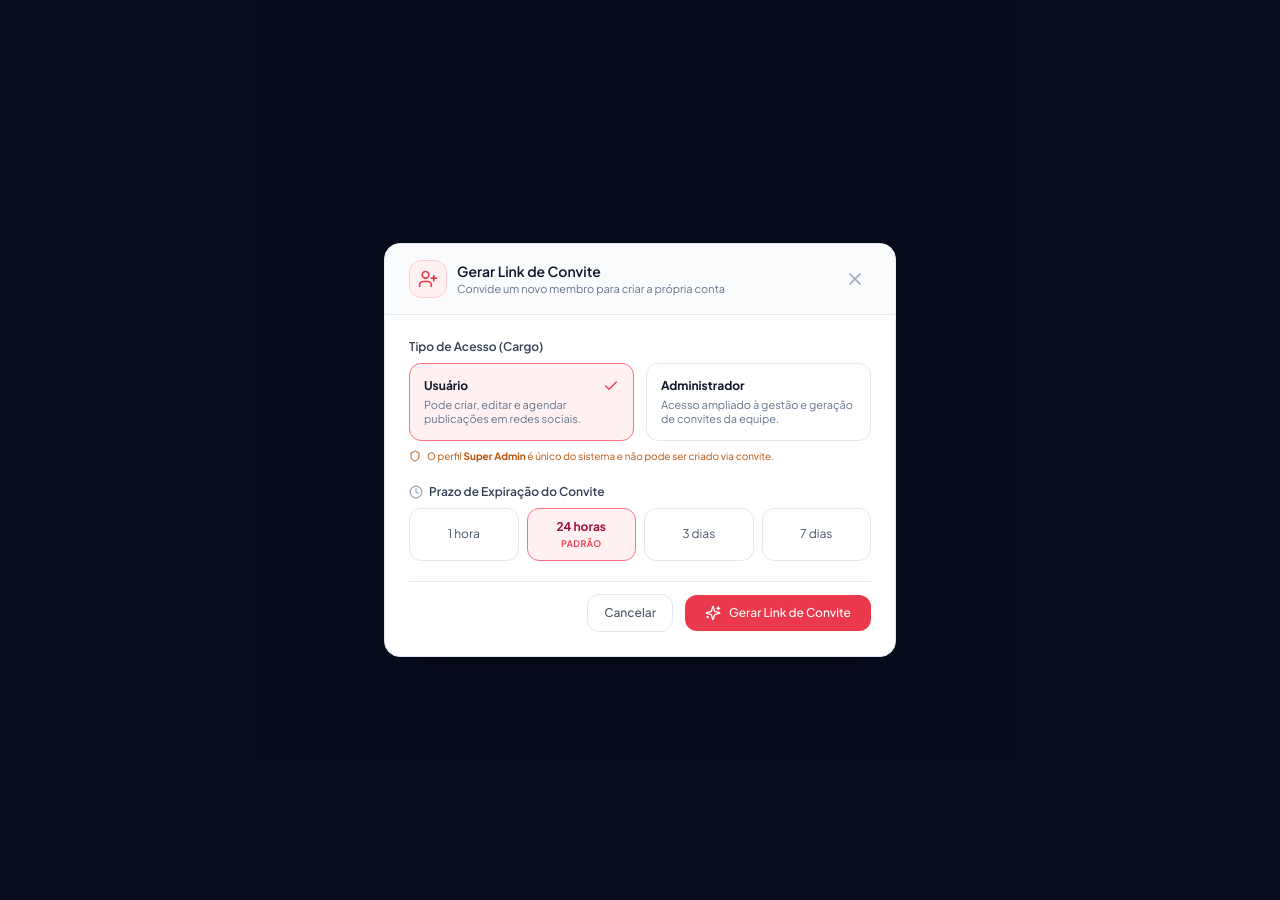
InviteModal Component › allows selecting role and expiration then generates invite successfully
This screenshot has width=1280, height=900.
Seleciona Administrador
Click the button with test id "role-admin-option" at (758, 402), box [646,363,871,440]
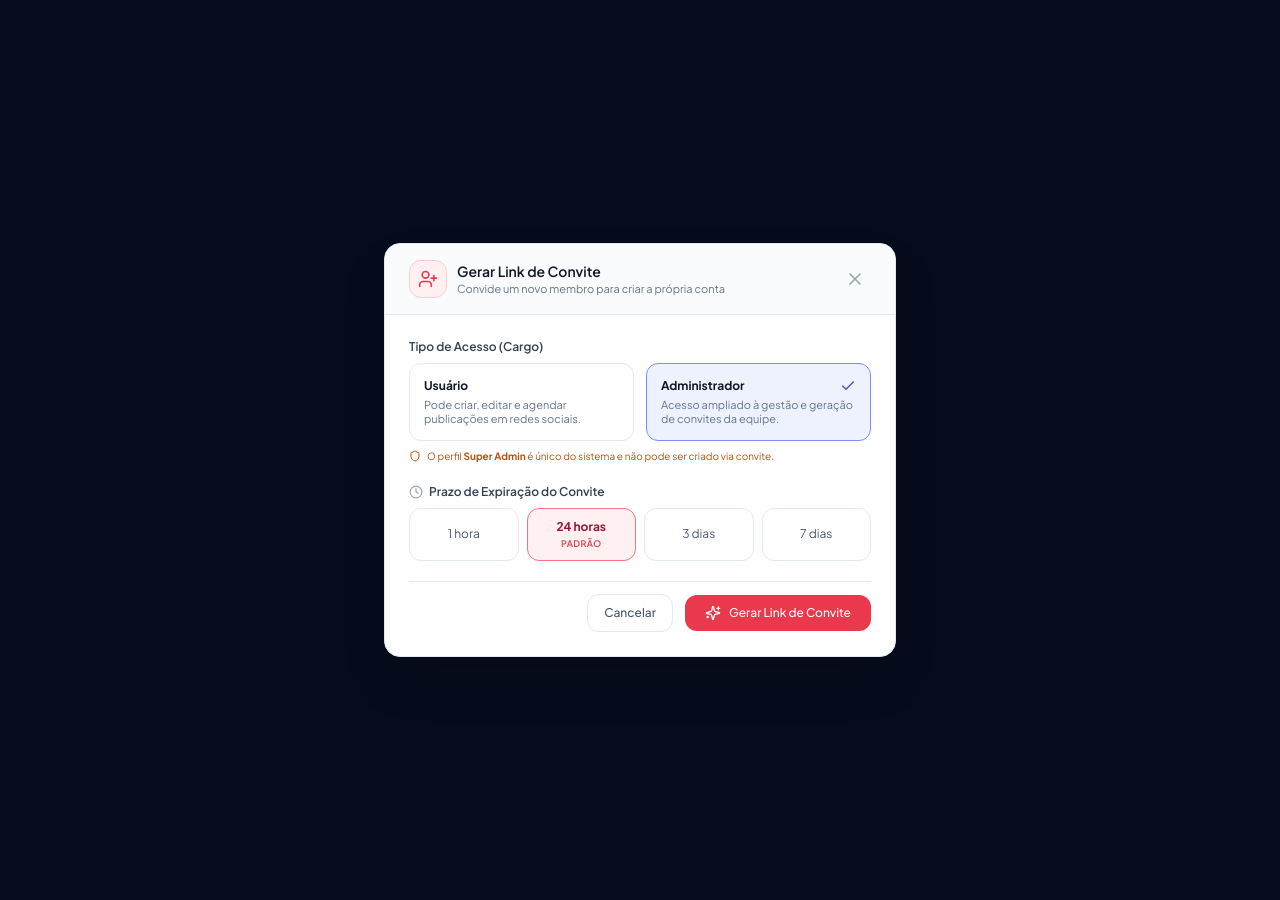
Seleciona 7 dias (168h)
Click the button with test id "expire-168h-option" at (816, 534), box [762,508,871,561]
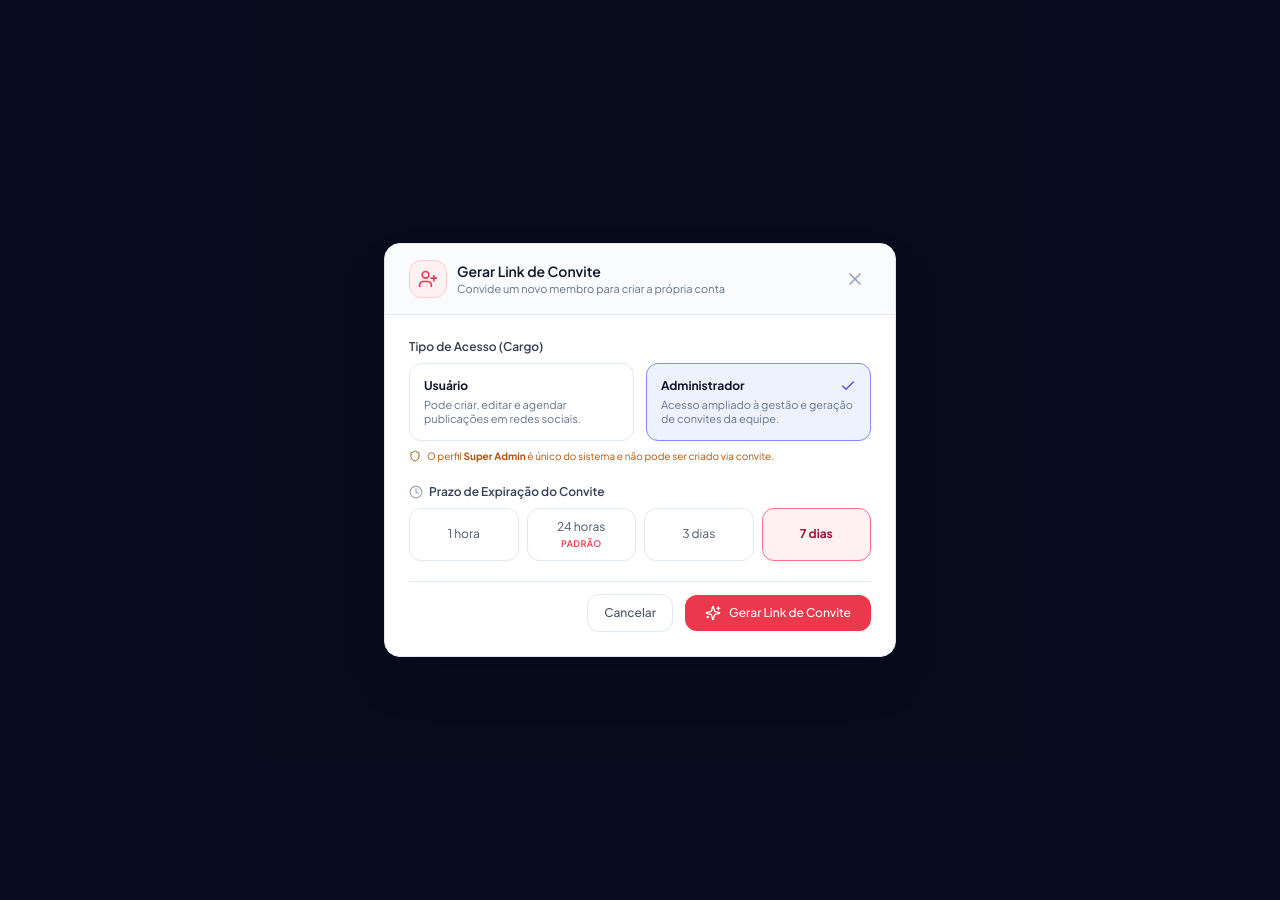
Clica em Gerar
Click the button with test id "btn-generate-invite" at (778, 613), box [685,595,871,631]
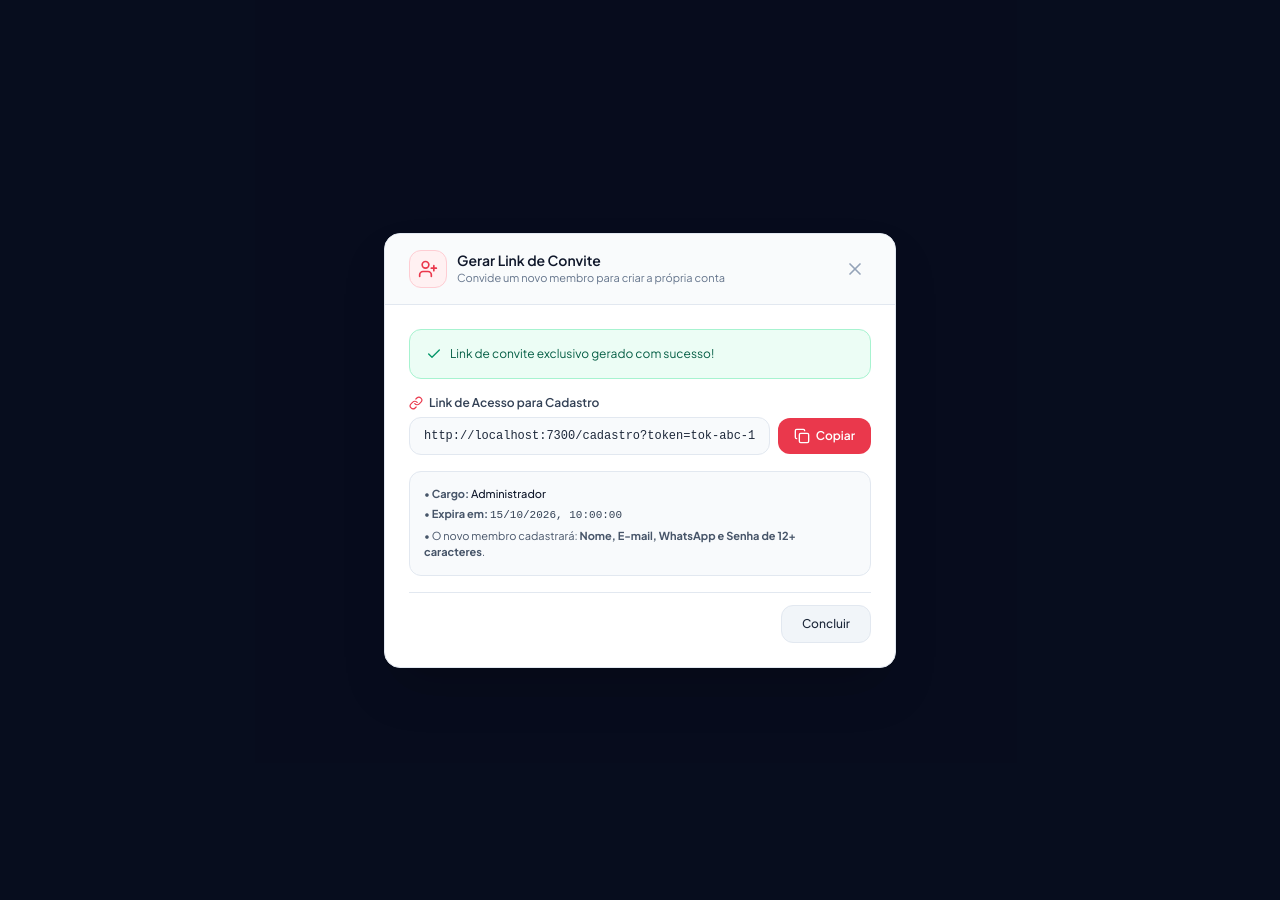
Result: the field with test id "invite-link-input" holds "http://localhost:7300/cadastro?token=tok-abc-123" at [409,416,770,454]
Result: the text "Link de convite exclusivo gerado com sucesso!" is shown at [450,346,714,362]
Copia link
Click the button with test id "btn-copy-invite-link" at (824, 436), box [778,418,871,454]
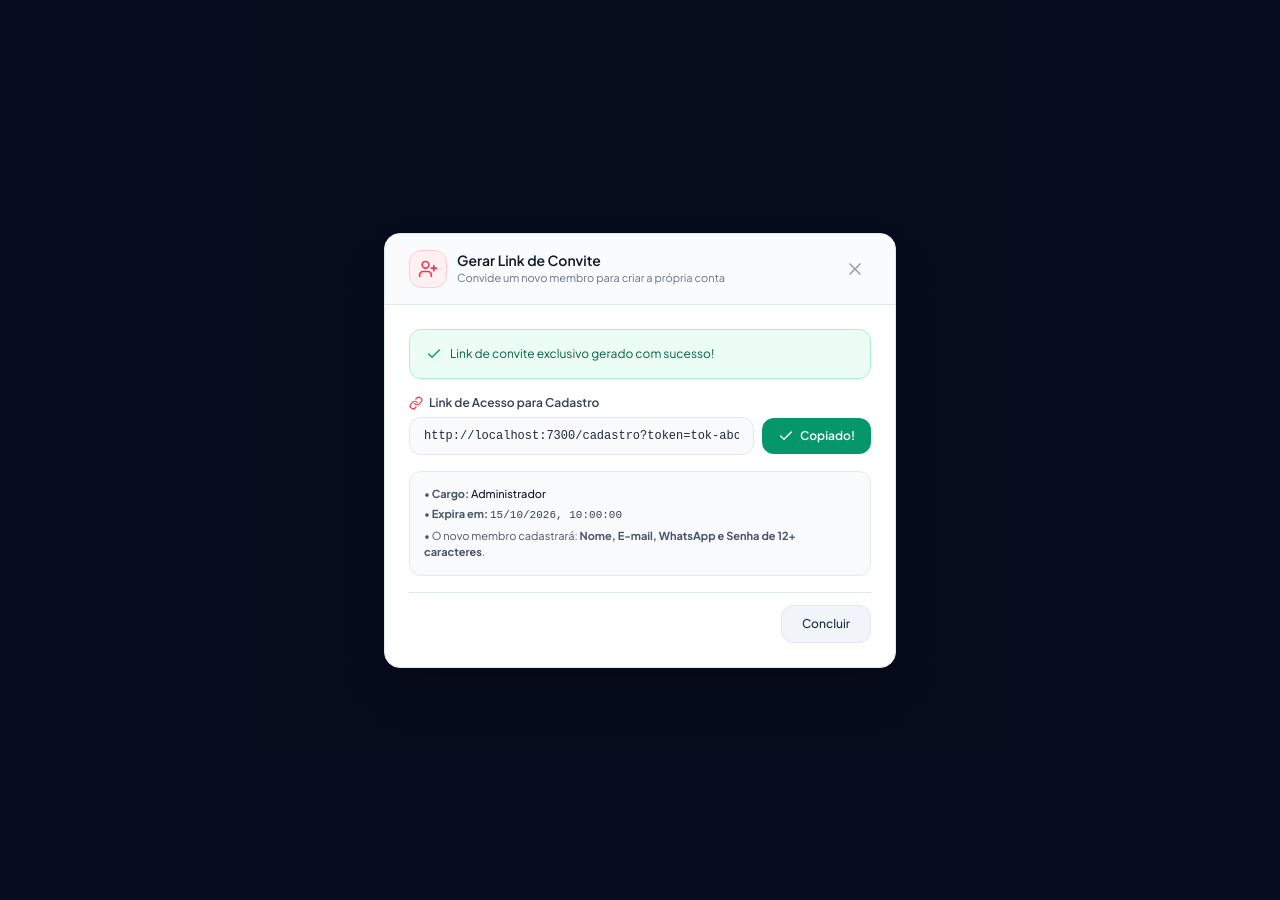
Result: the text "Copiado!" is shown at [800,428,855,444]
